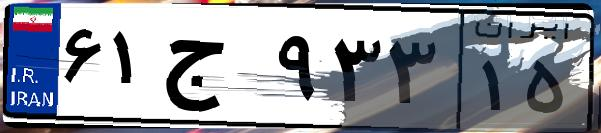1: (475, 38, 525, 113), (110, 28, 158, 98)
3: (385, 28, 445, 110), (330, 28, 385, 110)
5: (525, 38, 570, 115)
6: (57, 26, 110, 100)
9: (270, 28, 330, 110)
ج: (158, 20, 270, 120)
